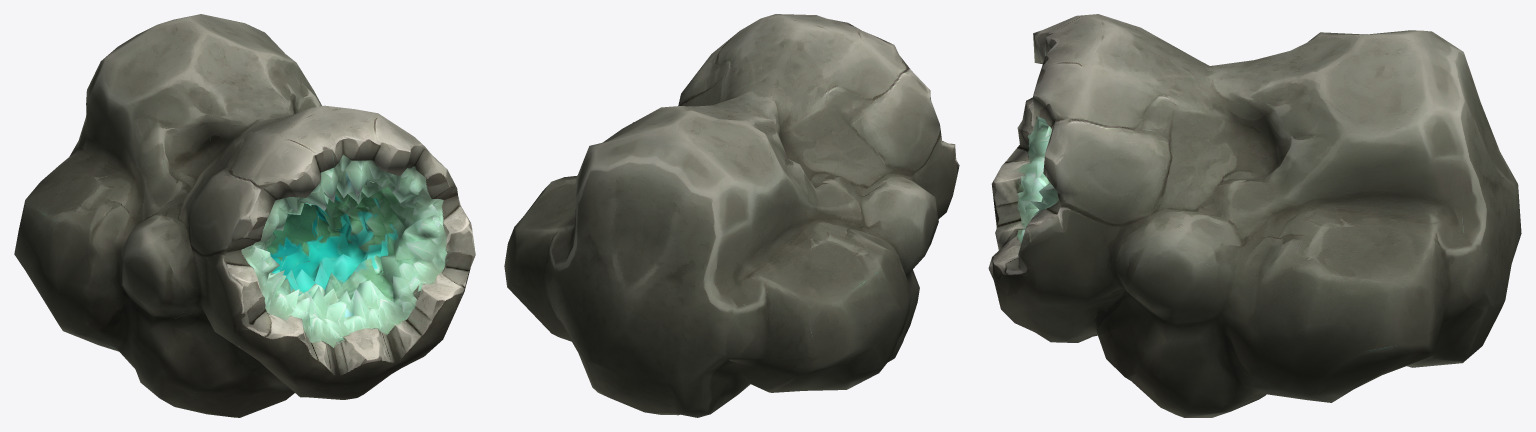
3 renders of one model, left to right at view 1: azimuth 30°, elevation 25°; view 2: azimuth 150°, elevation 25°; view 3: azimuth 270°, elevation 25°, orthographic. The views are drawn at different scales.
Parts seen in each view (by area): view 1: Mesh_0; view 2: Mesh_0; view 3: Mesh_0.
Boxes of the visible parts, <box> form: Mesh_0: <box>14,14,475,417</box>; Mesh_0: <box>504,14,959,417</box>; Mesh_0: <box>988,14,1521,417</box>.
Size of the model in its own units: 1.74 by 1.38 by 1.91.
1 material, 1 textured.
